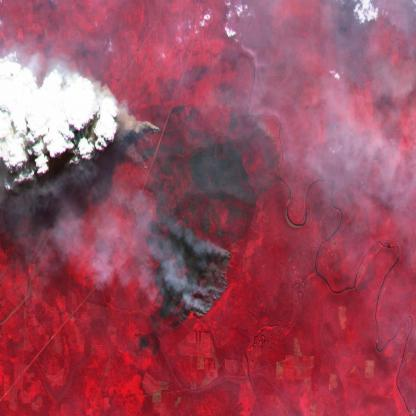fire: (177, 244, 234, 328), (107, 116, 166, 180), (264, 121, 281, 154)
